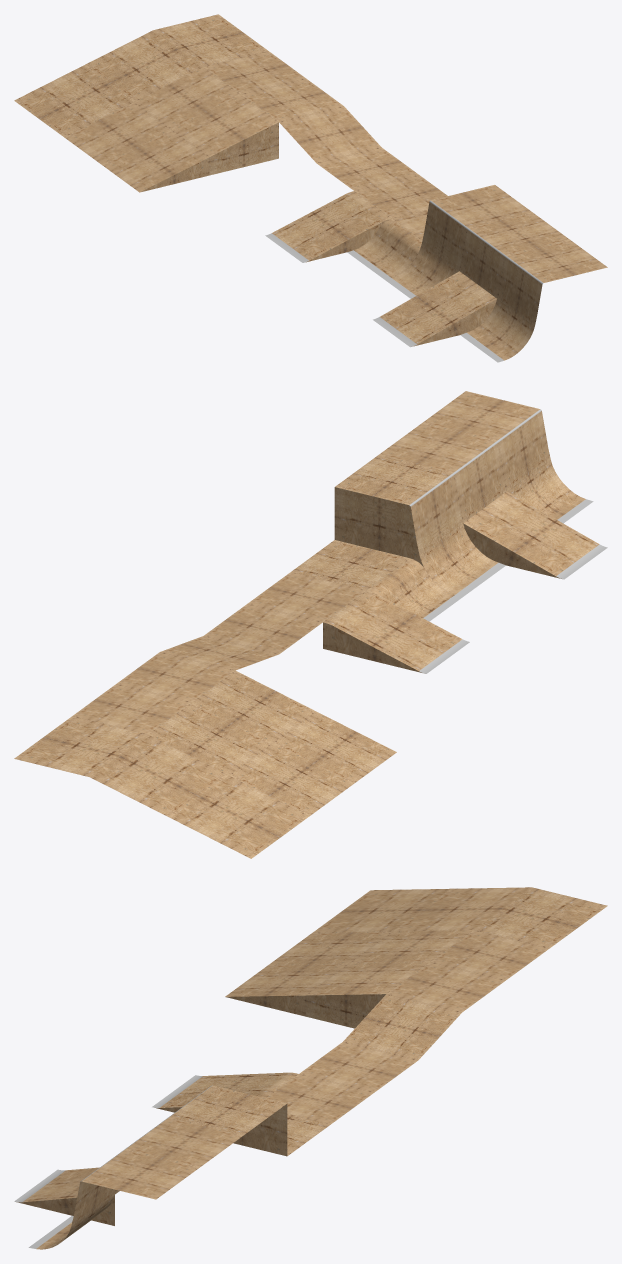
The model's file is transitionB.fbx.
The picture shows the model from 3 angles, top to bottom: view 1: azimuth 30°, elevation 25°; view 2: azimuth 150°, elevation 25°; view 3: azimuth 330°, elevation 25°; orthographic projection. The views are drawn at different scales.
Visible parts, largest first — view 1: transitionB; view 2: transitionB; view 3: transitionB.
Part boxes in pixels (x1,y1,x2,y2): transitionB: (14,14,607,362); transitionB: (14,391,607,858); transitionB: (14,887,607,1249).
Bounding box in the file's own units: 940 × 300 × 3100.
